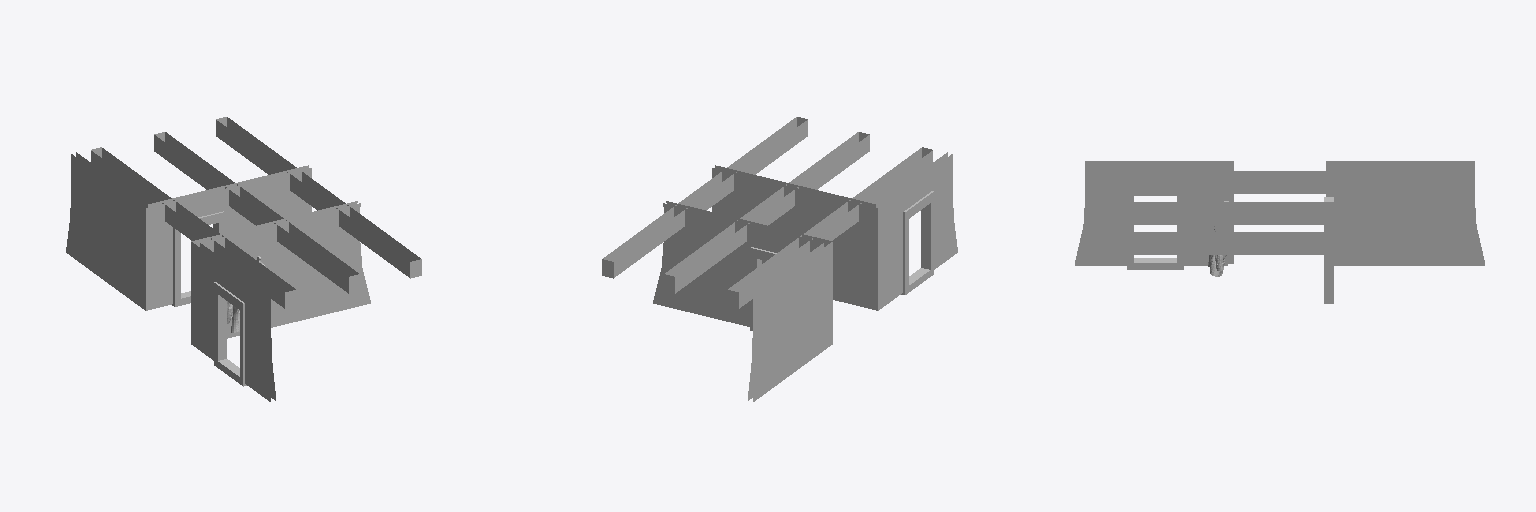
File: wallfirstfloor_lp.obj
3 renders of one model, left to right at view 1: azimuth 30°, elevation 25°; view 2: azimuth 150°, elevation 25°; view 3: azimuth 270°, elevation 25°, orthographic.
Visible parts, largest first — view 1: wallfirstfloor_lp; view 2: wallfirstfloor_lp; view 3: wallfirstfloor_lp.
Boxes of the visible parts, x1,y1,x2,y2 form: wallfirstfloor_lp: [66, 117, 421, 401]; wallfirstfloor_lp: [602, 117, 957, 401]; wallfirstfloor_lp: [1075, 161, 1484, 303].
Bounding box in the file's own units: 7.37 × 4.15 × 14.66.